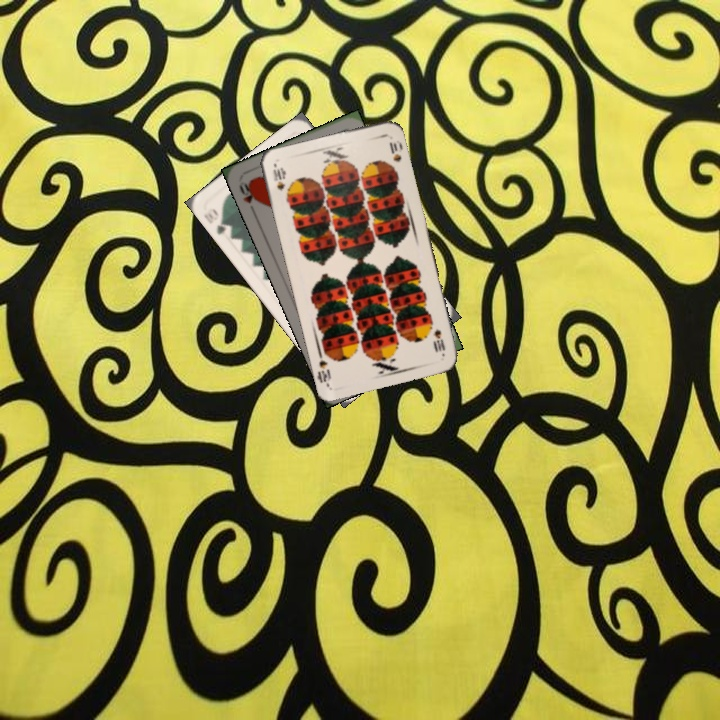G10: (200, 204, 235, 238)
HO: (235, 177, 261, 216)
S10: (269, 162, 288, 194), (429, 324, 448, 355)
